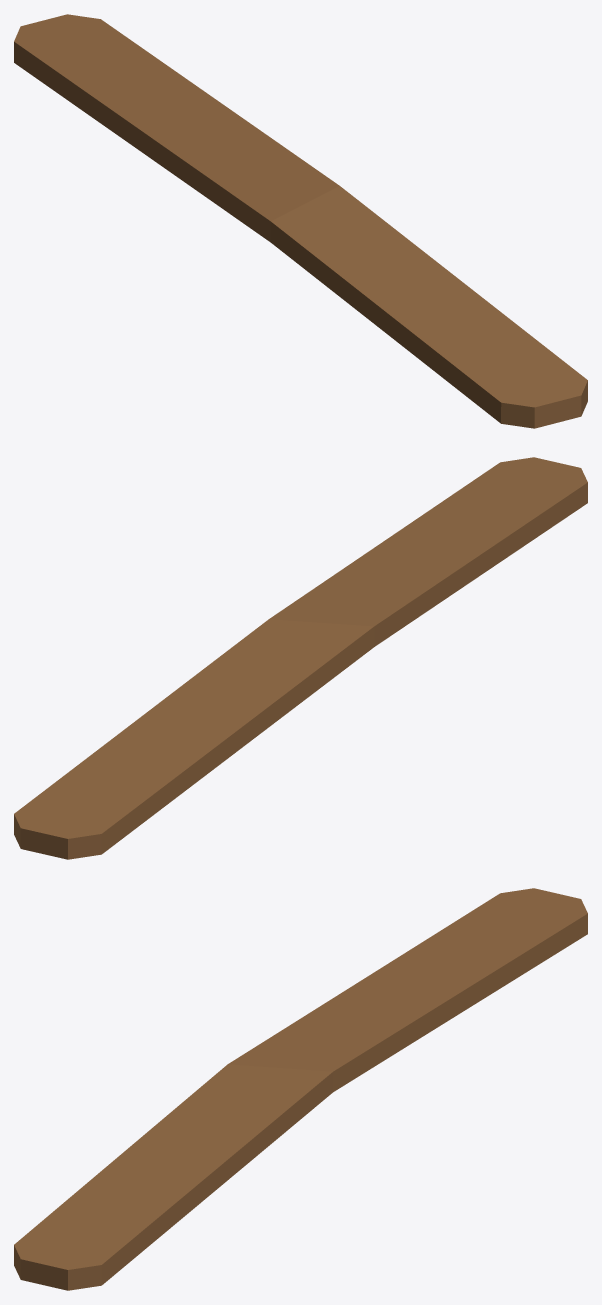
File: plank_1.fbx
The picture shows the model from 3 angles, top to bottom: view 1: azimuth 30°, elevation 25°; view 2: azimuth 150°, elevation 25°; view 3: azimuth 330°, elevation 25°; orthographic projection. The views are drawn at different scales.
Parts seen in each view (by area): view 1: Cube.007; view 2: Cube.007; view 3: Cube.007.
Boxes of the visible parts, x1,y1,x2,y2 form: Cube.007: (14,14,587,428); Cube.007: (14,457,587,859); Cube.007: (14,888,587,1290).
Bounding box in the file's own units: 0.3294 × 0.1268 × 3.
